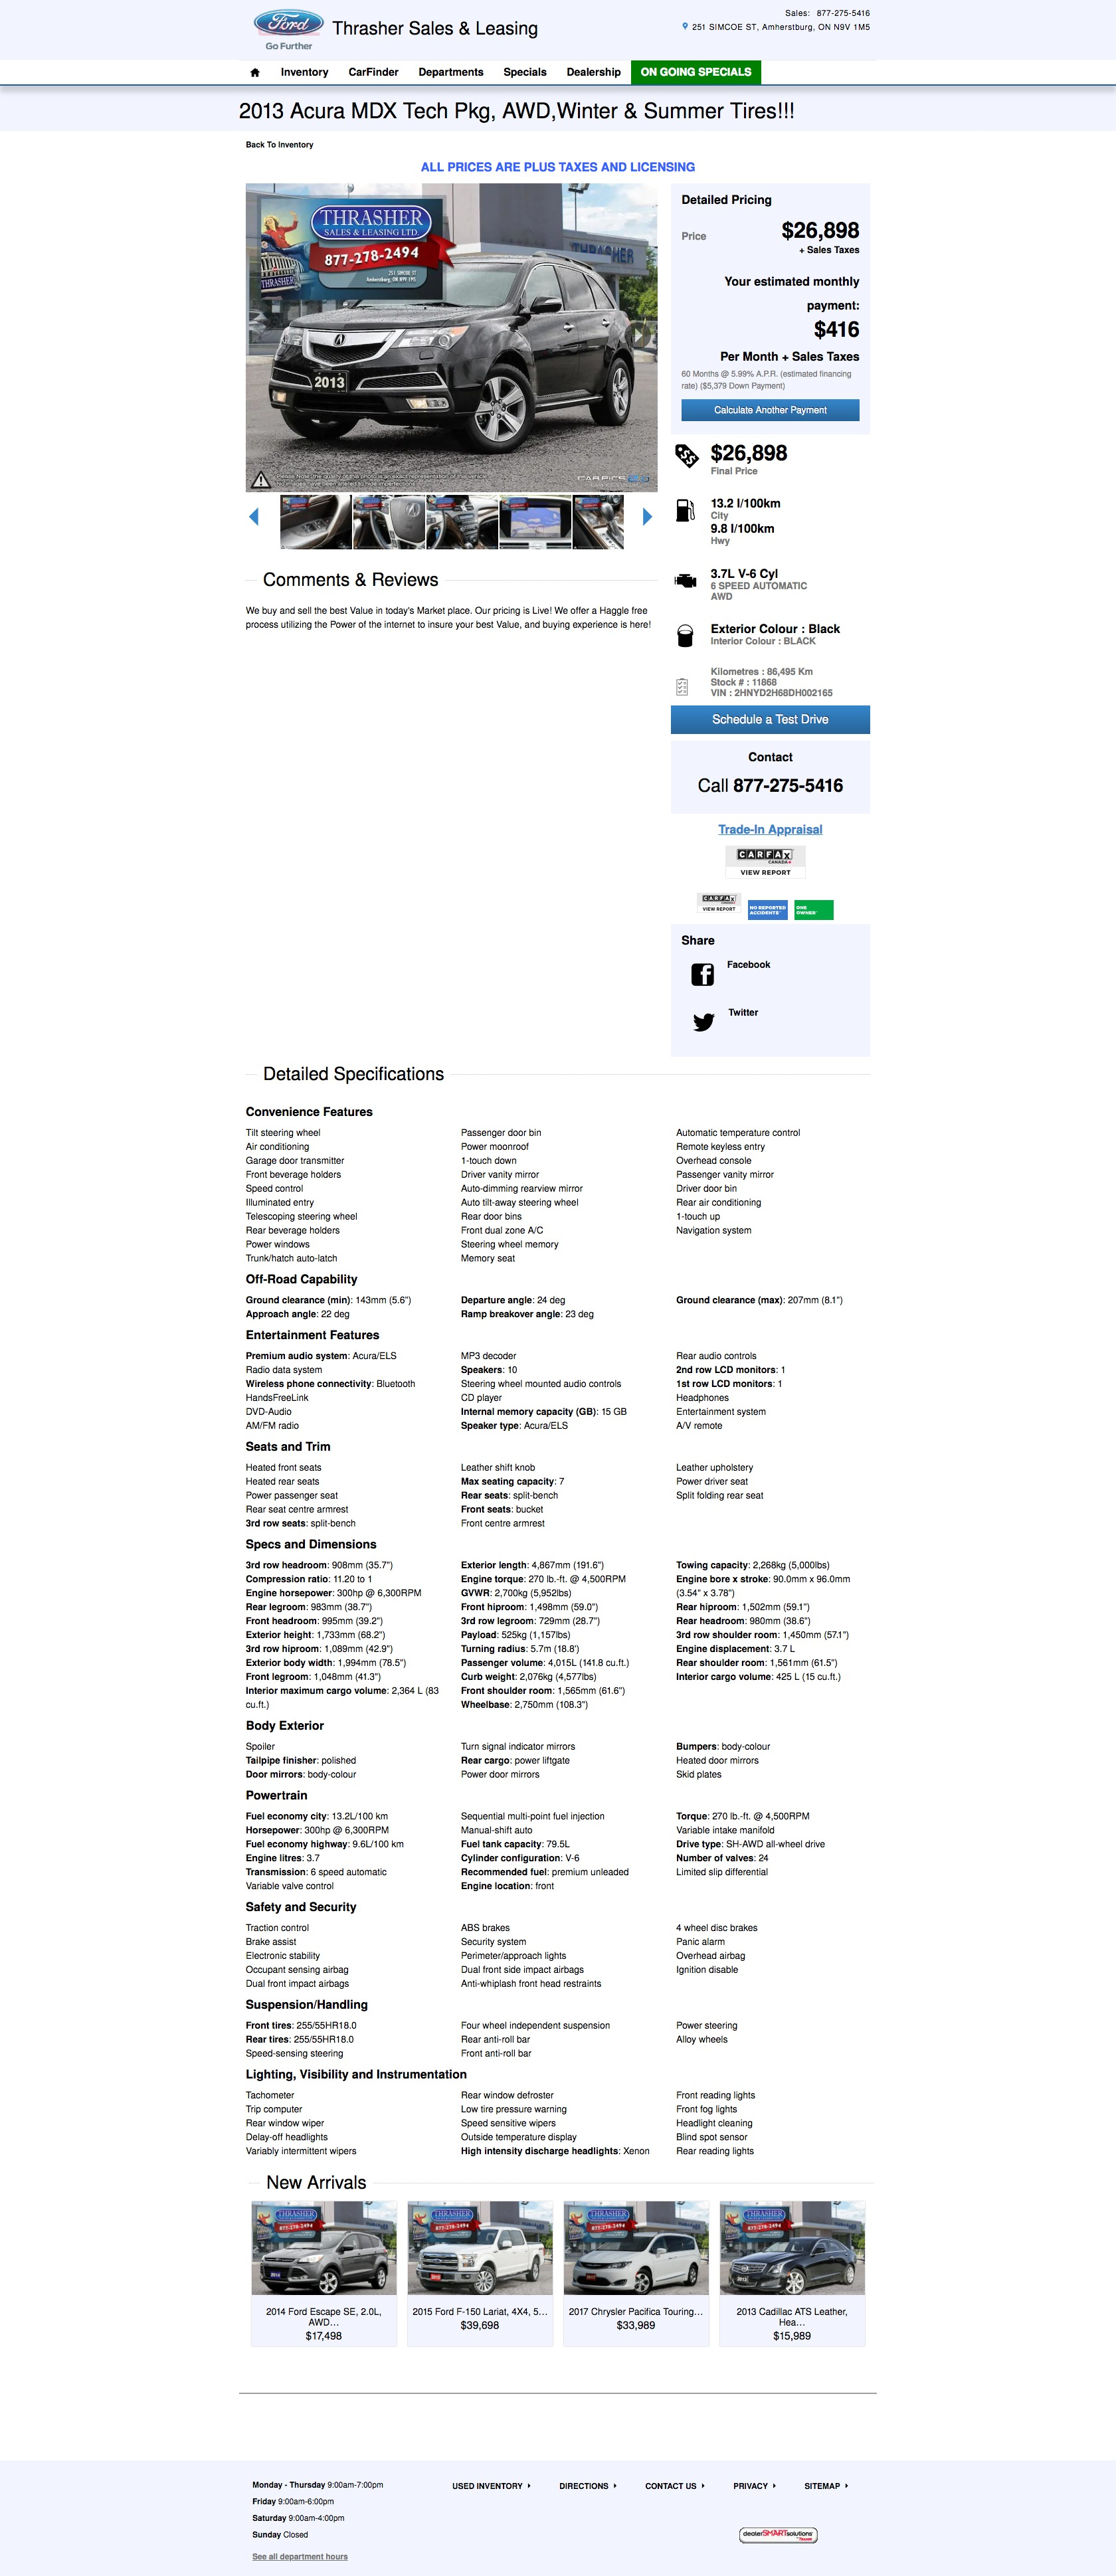car: (643, 508, 654, 527)
